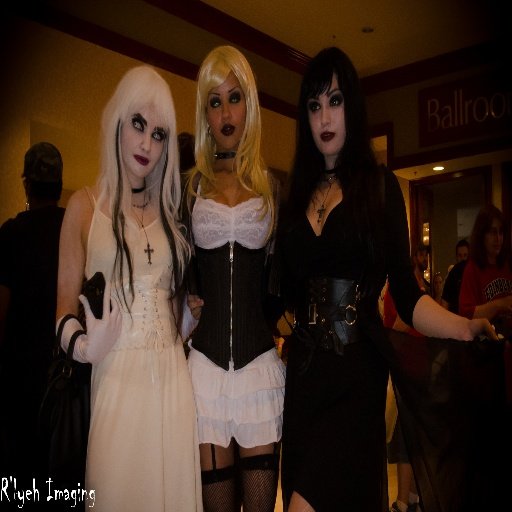hand: (77, 278, 123, 366), (460, 318, 500, 341), (186, 293, 205, 322), (506, 295, 511, 313), (278, 336, 284, 346)
